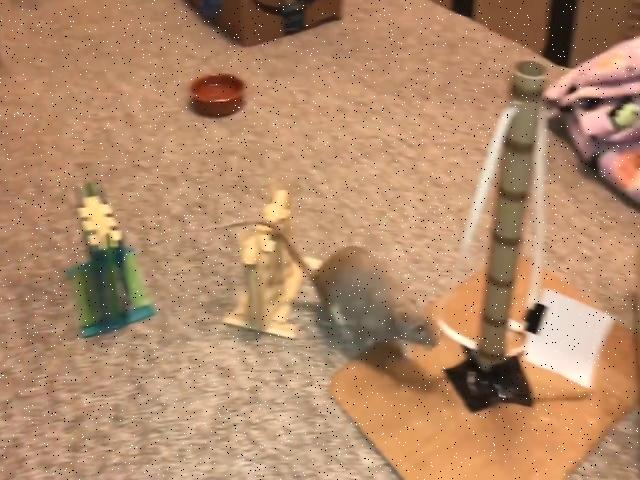Tikus: (304, 225, 444, 367)
